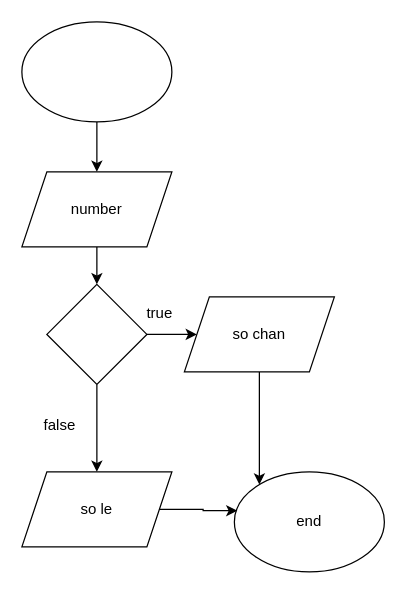
This 406x594 diagram has some shape labels left out. The centre of each missing label's shape, as x and y in pixels:
number chia het 2?: the point at 96,333
start: the point at 96,71
